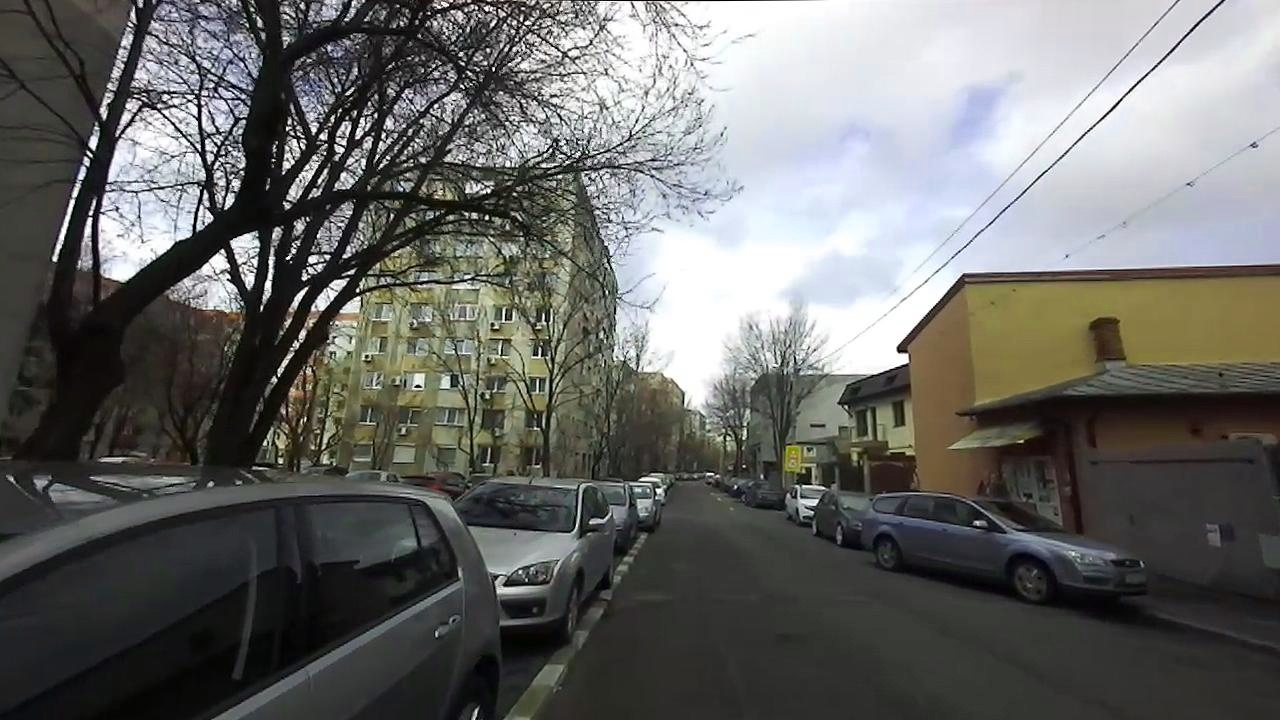pothole: (776, 625, 812, 646)
